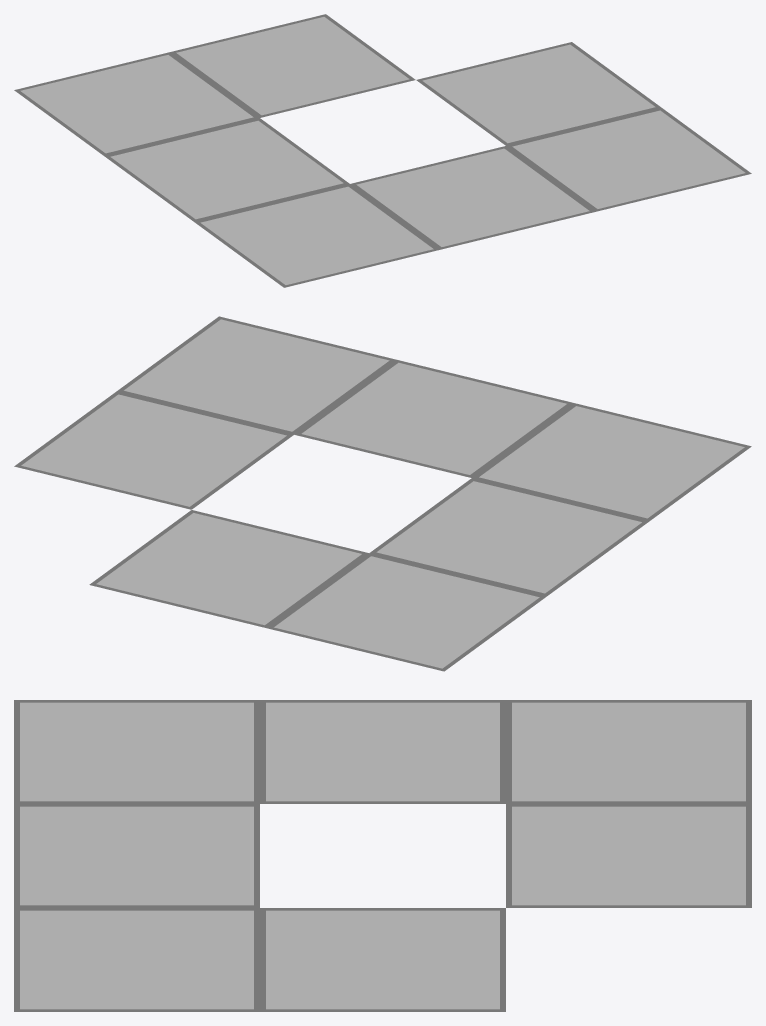
The model's file is Ceiling_Weird.fbx.
3 renders of one model, top to bottom at view 1: azimuth 30°, elevation 25°; view 2: azimuth 150°, elevation 25°; view 3: azimuth 270°, elevation 25°, orthographic. The views are drawn at different scales.
Parts seen in each view (by area): view 1: CeilingTiles.003; view 2: CeilingTiles.003; view 3: CeilingTiles.003.
Boxes of the visible parts, x1,y1,x2,y2 form: CeilingTiles.003: [14, 14, 751, 287]; CeilingTiles.003: [14, 316, 751, 671]; CeilingTiles.003: [14, 700, 751, 1011].
Bounding box in the file's own units: 300 × 4.2e-05 × 300.
